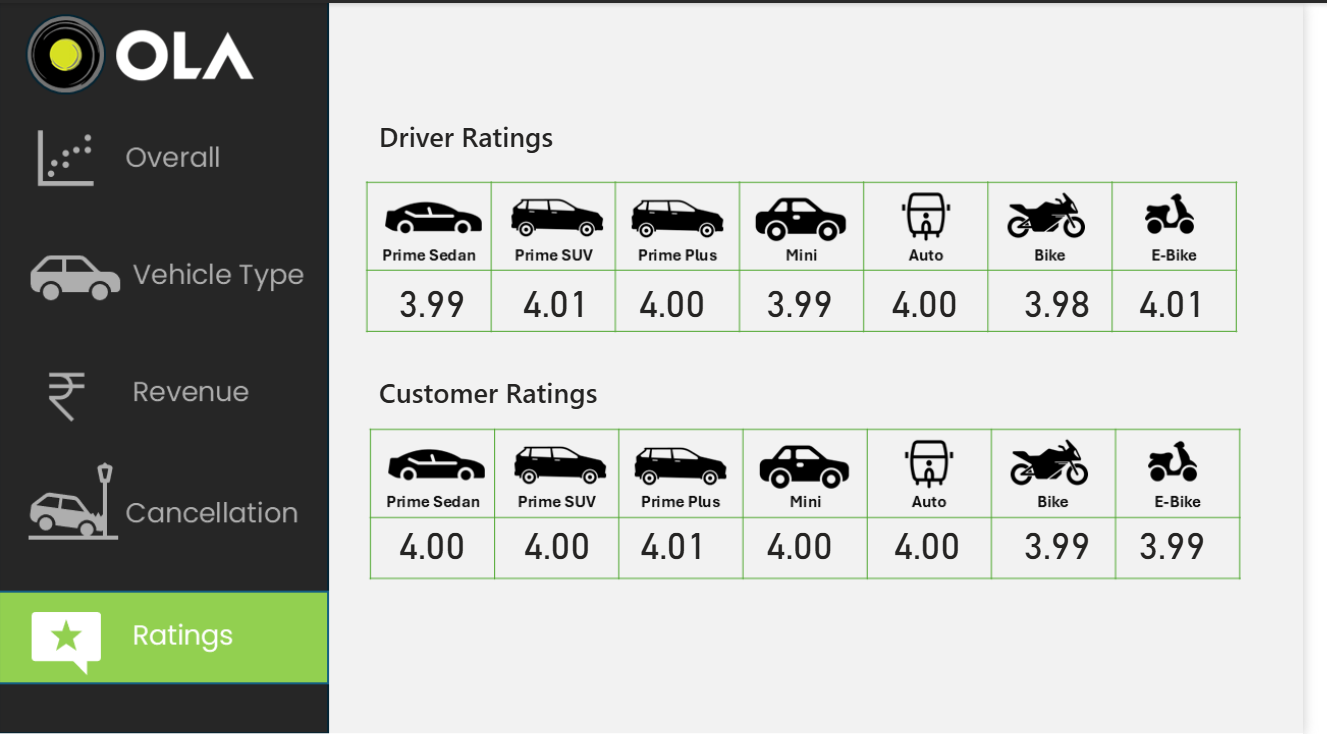

The page's visual inventory and layout, read from the dashboard file:
{"tool":"powerbi","page":{"name":"Ratings ","canvas":[1280,720],"ordinal":4},"visuals":[{"type":"actionButton","box":[0,108,322.7,96.9],"z":0},{"type":"actionButton","box":[1.2,223.3,322.7,96.9],"z":1000},{"type":"actionButton","box":[0,328.8,322.7,96.9],"z":2000},{"type":"actionButton","box":[0,450.3,322.7,96.9],"z":3000},{"type":"actionButton","box":[0,571.8,322.7,96.9],"z":4000},{"type":"card","fields":{"Values":["Avg(Bookings.Driver_Ratings)"]},"box":[367.8,263.5,113.9,57.6],"z":4001},{"type":"card","fields":{"Values":["Avg(Bookings.Driver_Ratings)"]},"box":[489.9,263.5,113.9,57.6],"z":4002},{"type":"card","fields":{"Values":["Avg(Bookings.Driver_Ratings)"]},"box":[603.8,263.5,113.9,57.6],"z":4003},{"type":"card","fields":{"Values":["Avg(Bookings.Driver_Ratings)"]},"box":[728.6,263.5,113.9,57.6],"z":4004},{"type":"card","fields":{"Values":["Avg(Bookings.Driver_Ratings)"]},"box":[852.1,263.5,113.9,57.6],"z":4005},{"type":"card","fields":{"Values":["Avg(Bookings.Driver_Ratings)"]},"box":[981.1,263.5,113.9,57.6],"z":4006},{"type":"card","fields":{"Values":["Avg(Bookings.Driver_Ratings)"]},"box":[1095,263.5,113.9,57.6],"z":4007},{"type":"card","fields":{"Values":["Avg(Bookings.Customer_Rating)"]},"box":[367.8,498.1,113.9,64.5],"z":4008},{"type":"card","fields":{"Values":["Avg(Bookings.Customer_Rating)"]},"box":[491.3,498.1,113.9,64.5],"z":4009},{"type":"card","fields":{"Values":["Avg(Bookings.Customer_Rating)"]},"box":[605.1,498.1,113.9,64.5],"z":4010},{"type":"card","fields":{"Values":["Avg(Bookings.Customer_Rating)"]},"box":[728.6,498.1,113.9,64.5],"z":4011},{"type":"card","fields":{"Values":["Avg(Bookings.Customer_Rating)"]},"box":[853.5,498.1,113.9,64.5],"z":4012},{"type":"card","fields":{"Values":["Avg(Bookings.Customer_Rating)"]},"box":[981.1,498.1,113.9,64.5],"z":4013},{"type":"card","fields":{"Values":["Avg(Bookings.Customer_Rating)"]},"box":[1095,498.1,113.9,64.5],"z":4014},{"type":"textbox","box":[367.8,108.4,203.1,50.8],"z":4015},{"type":"textbox","box":[367.8,359.5,237.4,50.8],"z":4016}]}

Visuals, with their boxes on the page's 1280x720 design canvas (x1, y1, x2, y2). These are canvas units, not pixel positions in the 1327x734 screenshot, which may show the page scaled, cropped or inside an application window:
actionButton: box(0, 108, 323, 205)
actionButton: box(1, 223, 324, 320)
actionButton: box(0, 329, 323, 426)
actionButton: box(0, 450, 323, 547)
actionButton: box(0, 572, 323, 669)
card - Avg(Bookings.Driver_Ratings): box(368, 264, 482, 321)
card - Avg(Bookings.Driver_Ratings): box(490, 264, 604, 321)
card - Avg(Bookings.Driver_Ratings): box(604, 264, 718, 321)
card - Avg(Bookings.Driver_Ratings): box(729, 264, 842, 321)
card - Avg(Bookings.Driver_Ratings): box(852, 264, 966, 321)
card - Avg(Bookings.Driver_Ratings): box(981, 264, 1095, 321)
card - Avg(Bookings.Driver_Ratings): box(1095, 264, 1209, 321)
card - Avg(Bookings.Customer_Rating): box(368, 498, 482, 563)
card - Avg(Bookings.Customer_Rating): box(491, 498, 605, 563)
card - Avg(Bookings.Customer_Rating): box(605, 498, 719, 563)
card - Avg(Bookings.Customer_Rating): box(729, 498, 842, 563)
card - Avg(Bookings.Customer_Rating): box(854, 498, 967, 563)
card - Avg(Bookings.Customer_Rating): box(981, 498, 1095, 563)
card - Avg(Bookings.Customer_Rating): box(1095, 498, 1209, 563)
textbox: box(368, 108, 571, 159)
textbox: box(368, 360, 605, 410)
